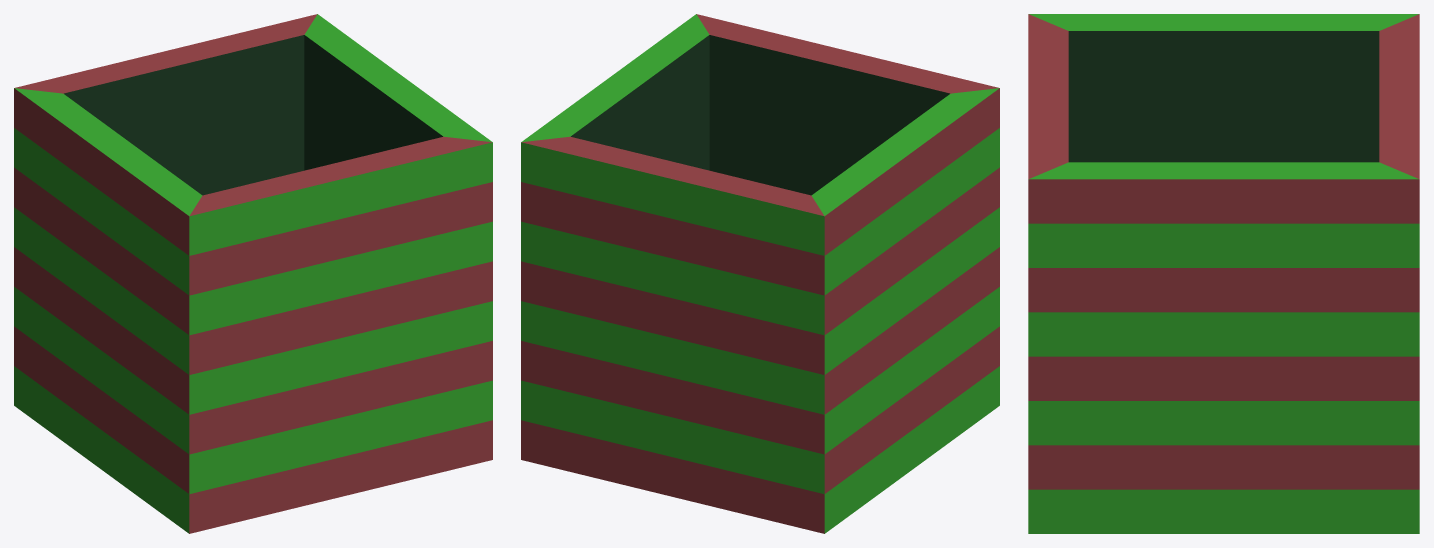
The model's file is hako.fbx.
The picture shows the model from 3 angles, left to right: view 1: azimuth 30°, elevation 25°; view 2: azimuth 150°, elevation 25°; view 3: azimuth 270°, elevation 25°; orthographic projection. The views are drawn at different scales.
Visible parts, largest first — view 1: Cube; view 2: Cube; view 3: Cube.
Part boxes in pixels (box(x1,y1,x2,y2)): Cube: box(14, 14, 492, 533); Cube: box(521, 14, 999, 533); Cube: box(1028, 14, 1419, 533).
Size of the model in its own units: 200 by 200 by 200.
